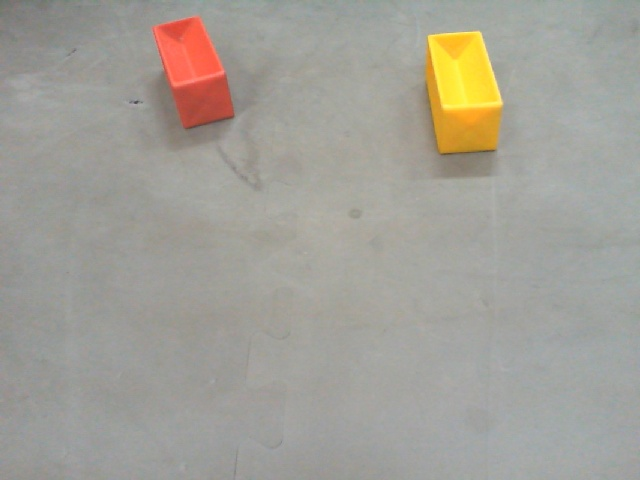RedSample: (146, 17, 234, 131)
YellowSample: (424, 27, 504, 159)
